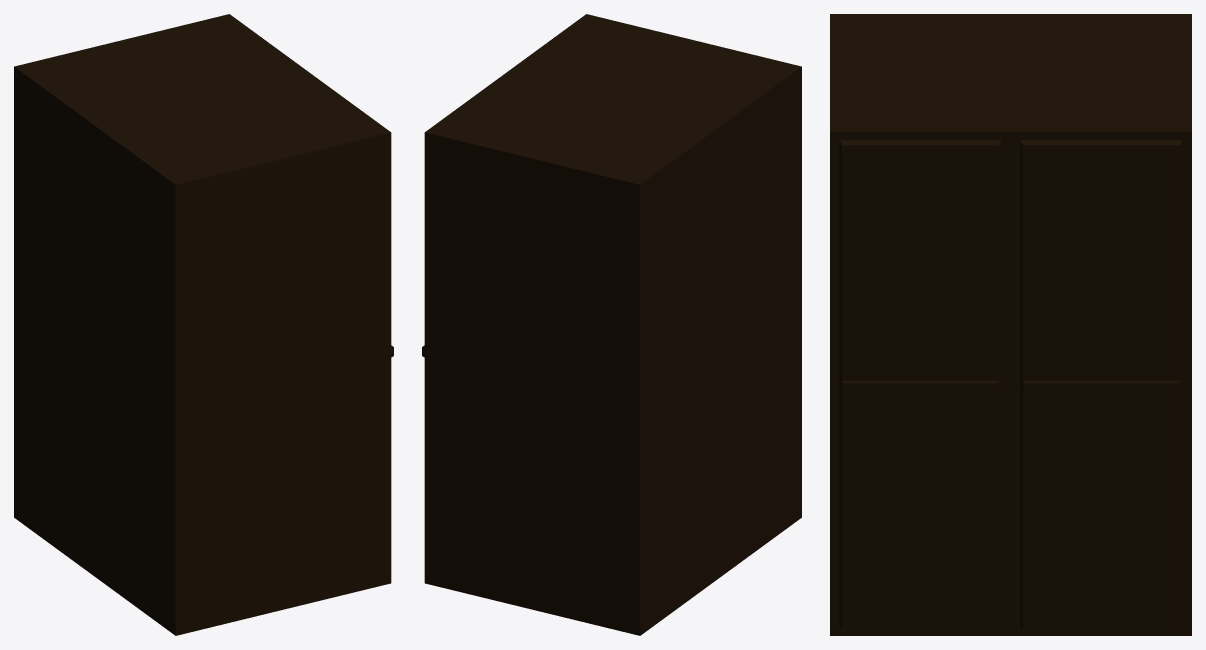
Rendered from armoire.FBX.
3 renders of one model, left to right at view 1: azimuth 30°, elevation 25°; view 2: azimuth 150°, elevation 25°; view 3: azimuth 270°, elevation 25°, orthographic. The views are drawn at different scales.
Parts seen in each view (by area): view 1: Armoire; view 2: Armoire; view 3: Armoire.
Part boxes in pixels (x1,y1,x2,y2): Armoire: (14, 14, 393, 635); Armoire: (422, 14, 801, 635); Armoire: (830, 14, 1191, 635).
Bounding box in the file's own units: 104 × 200 × 130.
